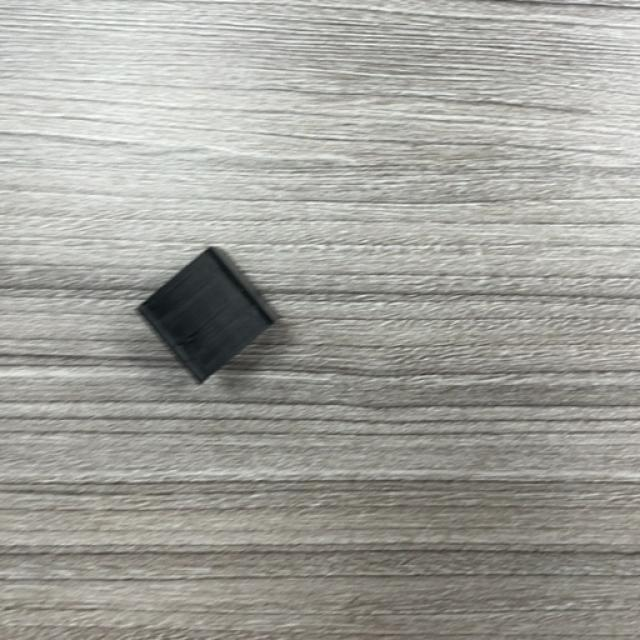Negro: (136, 246, 276, 385)
